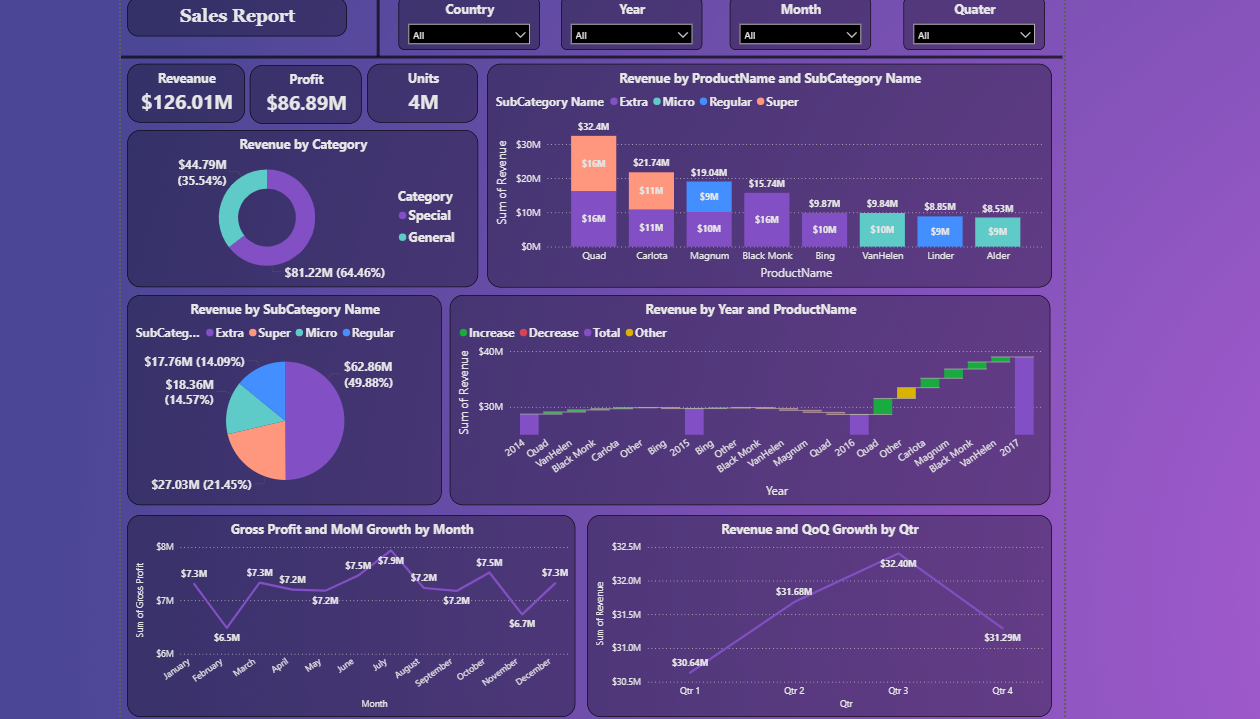

Layout of this report page (visuals, bound fields, positions):
{"tool":"powerbi","page":{"name":"Page 1","canvas":[1280,1000],"ordinal":0},"visuals":[{"type":"textbox","box":[8.6,9.8,298.3,52.6],"z":0},{"type":"slicer","title":"Year","fields":{"Values":["Date Master.Year"]},"box":[597.8,9.8,191.9,70.9],"z":1000},{"type":"slicer","title":"Month","fields":{"Values":["Date Master.Month"]},"box":[826.3,9.8,191.9,70.9],"z":2000},{"type":"slicer","title":"Quater","fields":{"Values":["Date Master.Qtr"]},"box":[1063.5,9.8,191.9,70.9],"z":3000},{"type":"slicer","title":"Country","fields":{"Values":["Geography.Country"]},"box":[376.5,9.8,191.9,70.9],"z":4000},{"type":"shape","box":[0,80.8,1279.5,19.2],"z":5000},{"type":"shape","box":[323.3,1.4,53.4,89],"z":6000},{"type":"card","title":"Reveanue","fields":{"Values":["Sum(Sales.Total Revenue)"]},"box":[8.2,100,160.3,80],"z":7000},{"type":"card","title":"Profit","fields":{"Values":["Sum(Sales.Gross Profit)"]},"box":[175.3,101.4,152.1,80],"z":8000},{"type":"card","title":"Units","fields":{"Values":["Sum(Sales.Units)"]},"box":[334.2,100,150.7,80],"z":9000},{"type":"pieChart","title":"Revenue by SubCategory Name","fields":{"Category":["SubCategory.SubCategory Name"],"Y":["Sum(Sales.Total Revenue)"]},"box":[9.1,414.5,427.3,285.5],"z":10000},{"type":"donutChart","title":"Revenue by Category","fields":{"Y":["Sum(Sales.Total Revenue)"],"Category":["Categories.Category"]},"box":[8.2,190.4,476.7,213.7],"z":11000},{"type":"waterfallChart","title":"Revenue by Year and ProductName","fields":{"Category":["Date Master.Year"],"Breakdown":["Product.ProductName"],"Y":["Sum(Sales.Total Revenue)"]},"box":[447.3,414.5,816.4,285.5],"z":12000},{"type":"columnChart","title":"Revenue by ProductName and SubCategory Name","fields":{"Category":["Product.ProductName"],"Y":["Sum(Sales.Total Revenue)"],"Series":["SubCategory.SubCategory Name"]},"box":[497.3,100,767.1,304.1],"z":13000},{"type":"lineChart","title":"Gross Profit and MoM Growth by Month","fields":{"Category":["Date Master.Month"],"Y":["Sum(Sales.Gross Profit)"]},"box":[9.1,712.7,609.1,274.5],"z":14000},{"type":"lineChart","title":"Revenue and QoQ Growth by Qtr","fields":{"Category":["Date Master.Qtr"],"Y":["Sum(Sales.Revenue)"]},"box":[632.7,712.7,630.9,274.5],"z":15000}]}

Visuals, with their boxes in screenshot pixels (x1, y1, x2, y2):
textbox: {"x1": 124, "y1": 7, "x2": 344, "y2": 46}
"Year" slicer: {"x1": 557, "y1": 7, "x2": 698, "y2": 59}
"Month" slicer: {"x1": 725, "y1": 7, "x2": 866, "y2": 59}
"Quater" slicer: {"x1": 899, "y1": 7, "x2": 1040, "y2": 59}
"Country" slicer: {"x1": 395, "y1": 7, "x2": 536, "y2": 59}
shape: {"x1": 118, "y1": 59, "x2": 1058, "y2": 73}
shape: {"x1": 356, "y1": 1, "x2": 395, "y2": 66}
"Reveanue" card: {"x1": 124, "y1": 73, "x2": 242, "y2": 132}
"Profit" card: {"x1": 247, "y1": 74, "x2": 359, "y2": 133}
"Units" card: {"x1": 364, "y1": 73, "x2": 474, "y2": 132}
"Revenue by SubCategory Name" pieChart: {"x1": 125, "y1": 305, "x2": 439, "y2": 514}
"Revenue by Category" donutChart: {"x1": 124, "y1": 140, "x2": 474, "y2": 297}
"Revenue by Year and ProductName" waterfallChart: {"x1": 447, "y1": 305, "x2": 1047, "y2": 514}
"Revenue by ProductName and SubCategory Name" columnChart: {"x1": 483, "y1": 73, "x2": 1047, "y2": 297}
"Gross Profit and MoM Growth by Month" lineChart: {"x1": 125, "y1": 524, "x2": 572, "y2": 718}
"Revenue and QoQ Growth by Qtr" lineChart: {"x1": 583, "y1": 524, "x2": 1046, "y2": 718}
